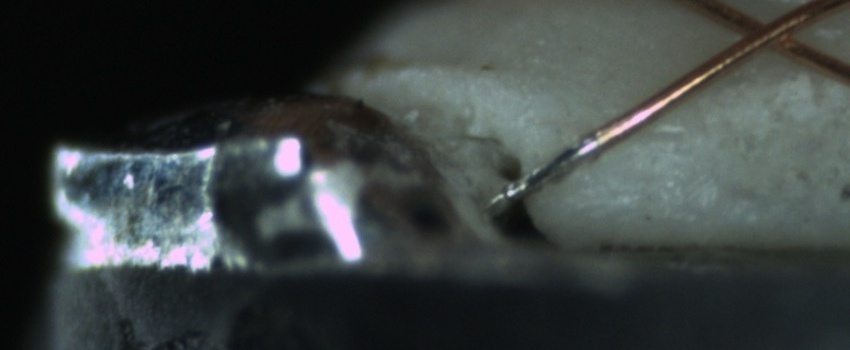CL: (719, 2, 818, 64)
DL: (605, 112, 690, 164)
TS: (497, 134, 598, 206)
